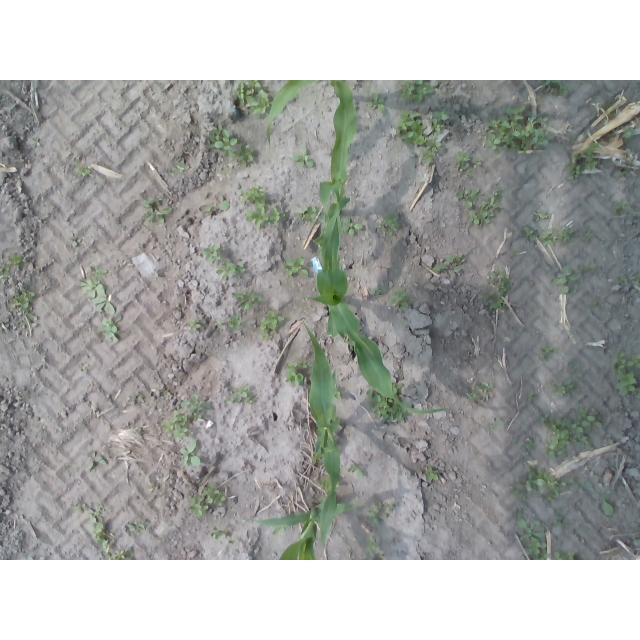Maize: (305, 194, 450, 414), (309, 81, 360, 272), (299, 322, 341, 550), (244, 501, 363, 560), (265, 81, 336, 148)
Weeds: (485, 103, 554, 155), (539, 409, 602, 460), (508, 465, 560, 504), (80, 266, 115, 314), (366, 384, 409, 423), (517, 516, 552, 561), (610, 351, 640, 399), (235, 80, 273, 116), (394, 110, 429, 147), (566, 142, 599, 179), (189, 484, 226, 517), (87, 507, 112, 553), (585, 480, 614, 517), (488, 269, 513, 311), (163, 408, 194, 441), (208, 124, 238, 158), (180, 393, 213, 421), (142, 196, 172, 225), (245, 207, 285, 228), (12, 287, 36, 321), (455, 151, 484, 178), (553, 265, 580, 294), (260, 311, 285, 341), (239, 185, 269, 208), (94, 316, 119, 343), (233, 289, 263, 311), (286, 361, 311, 387), (430, 255, 466, 273), (224, 386, 256, 406), (480, 188, 505, 213), (367, 503, 394, 526), (216, 261, 247, 281), (179, 441, 201, 468), (466, 382, 494, 403), (548, 380, 577, 399), (422, 137, 442, 164), (430, 109, 450, 136), (456, 186, 480, 208), (379, 212, 401, 236), (283, 258, 309, 278), (364, 536, 384, 561), (292, 146, 315, 167), (295, 206, 322, 223), (390, 288, 411, 309), (237, 145, 256, 168), (340, 217, 364, 235), (562, 474, 583, 494), (85, 453, 107, 472), (542, 80, 568, 96), (469, 211, 495, 227), (201, 245, 224, 263), (367, 92, 385, 112), (127, 520, 149, 536), (105, 548, 134, 560), (610, 200, 630, 217), (539, 230, 557, 247), (198, 202, 230, 211), (74, 160, 92, 176), (171, 159, 190, 174), (424, 467, 440, 484), (540, 345, 557, 361), (1, 263, 12, 285), (552, 549, 574, 560), (522, 227, 539, 241), (623, 127, 638, 142), (230, 316, 243, 331), (9, 254, 24, 267), (317, 477, 332, 490), (348, 464, 363, 477), (580, 227, 593, 242), (558, 226, 570, 242), (210, 525, 223, 539), (188, 319, 202, 332), (553, 512, 564, 527), (491, 419, 505, 430), (533, 211, 548, 221), (272, 525, 286, 535), (581, 263, 596, 272), (372, 285, 384, 296), (525, 438, 535, 451), (478, 292, 490, 302), (31, 138, 42, 148), (527, 391, 537, 402), (72, 505, 84, 514), (137, 393, 146, 403), (334, 391, 343, 400), (634, 272, 640, 285), (617, 169, 628, 176), (71, 237, 78, 248), (215, 321, 224, 328), (617, 276, 627, 281), (511, 252, 519, 257)
